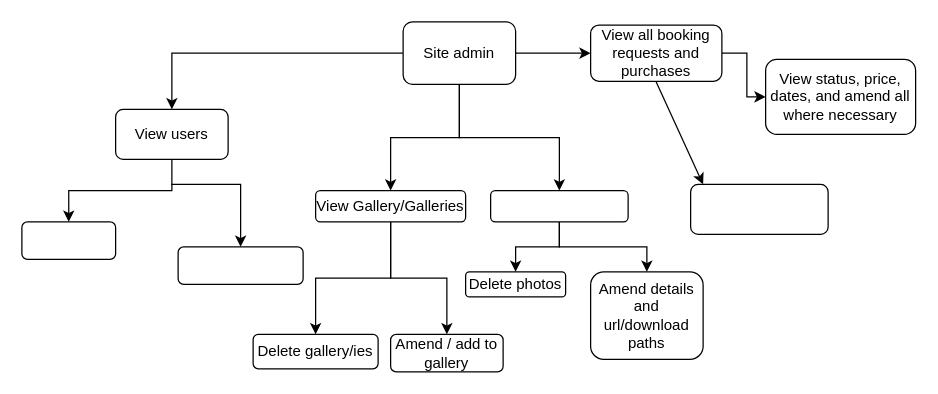
Some shapes in this 938 by 394 pixel diagram are drawn without their labels. The centre of each missing label's shape, as x and y in pixels:
Delete orders and booking requests: pixel 758 208
Delete user: pixel 68 240
Reset password: pixel 240 265
View photos: pixel 558 205
